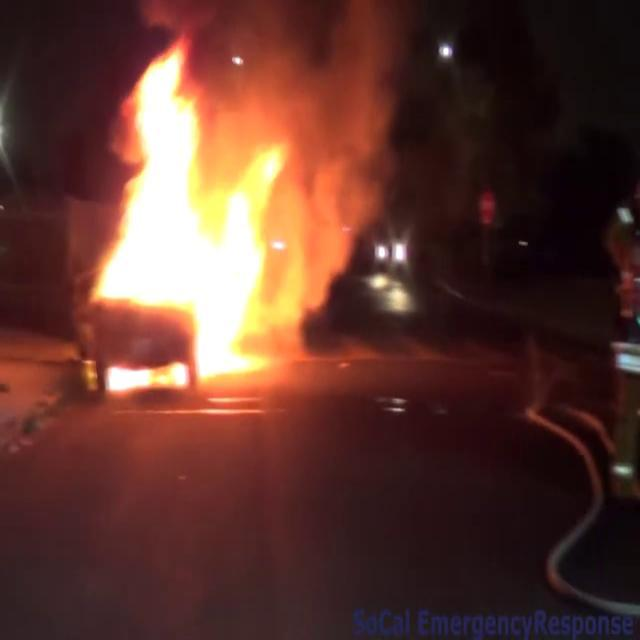Fire: (78, 32, 304, 392)
Smoke: (209, 0, 417, 204)
